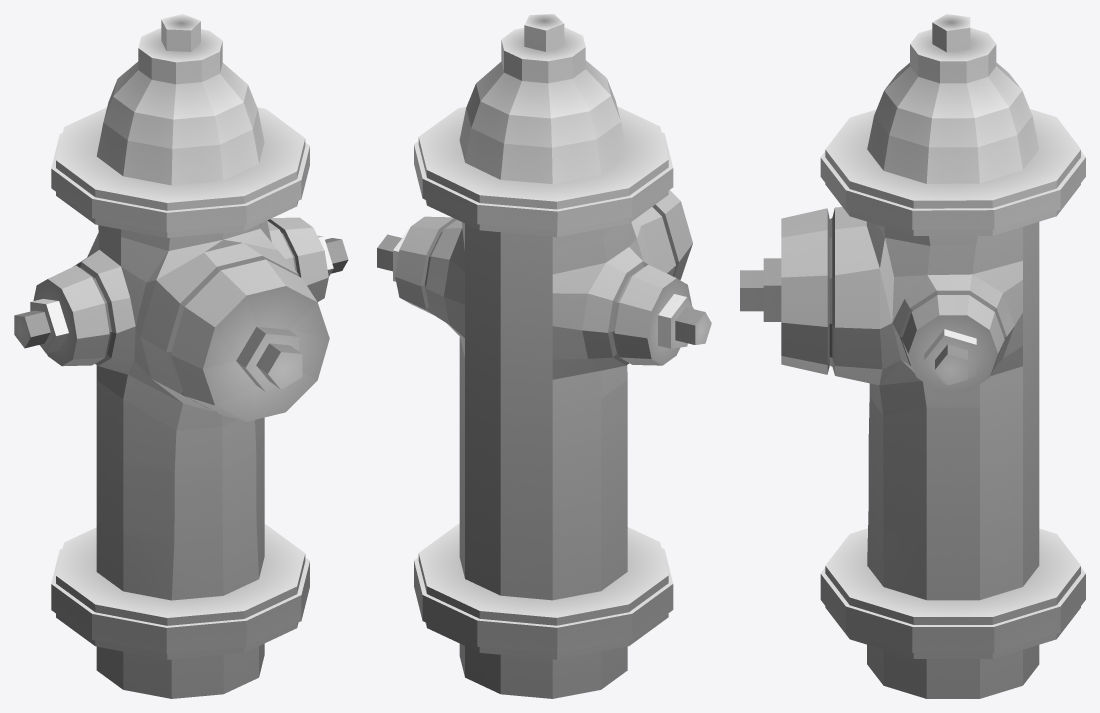
The model's file is SM_Firehydrant_BnW_1M.fbx.
The picture shows the model from 3 angles, left to right: view 1: azimuth 30°, elevation 25°; view 2: azimuth 150°, elevation 25°; view 3: azimuth 270°, elevation 25°; orthographic projection.
Parts seen in each view (by area): view 1: Cylinder001; view 2: Cylinder001; view 3: Cylinder001.
Boxes of the visible parts, bbox=[...] form: Cylinder001: bbox=[14, 14, 348, 698]; Cylinder001: bbox=[377, 14, 711, 698]; Cylinder001: bbox=[740, 14, 1085, 698].
Size of the model in its own units: 17.2 by 33.14 by 16.18.
